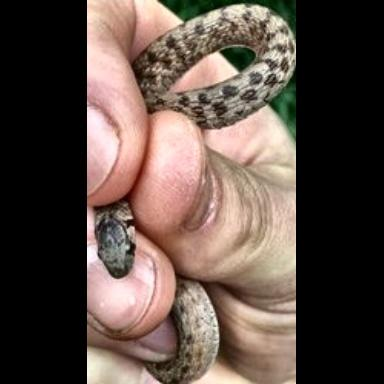snake: (132, 4, 297, 131), (145, 276, 220, 384), (94, 201, 136, 280)
